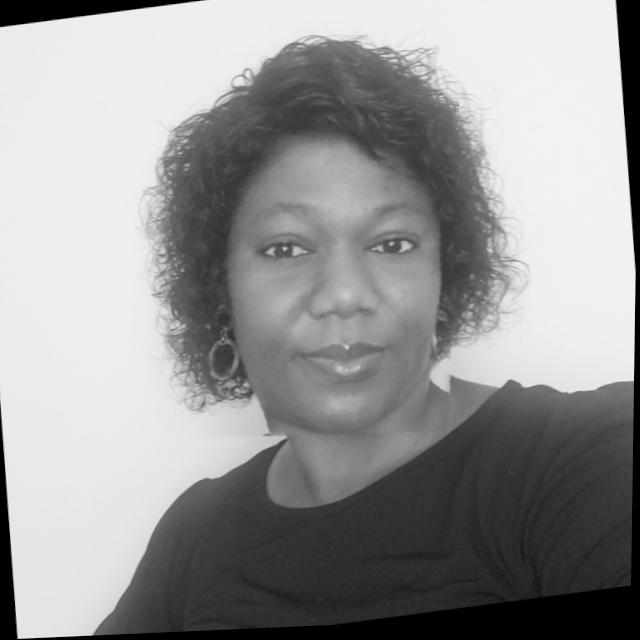happy: (185, 86, 479, 459)
